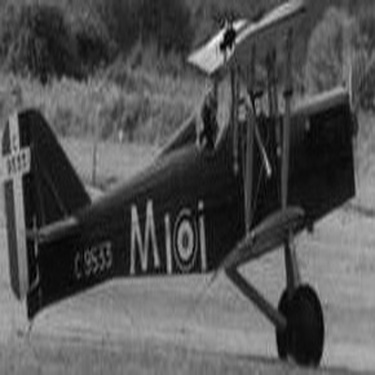airplane: (4, 4, 369, 370)
